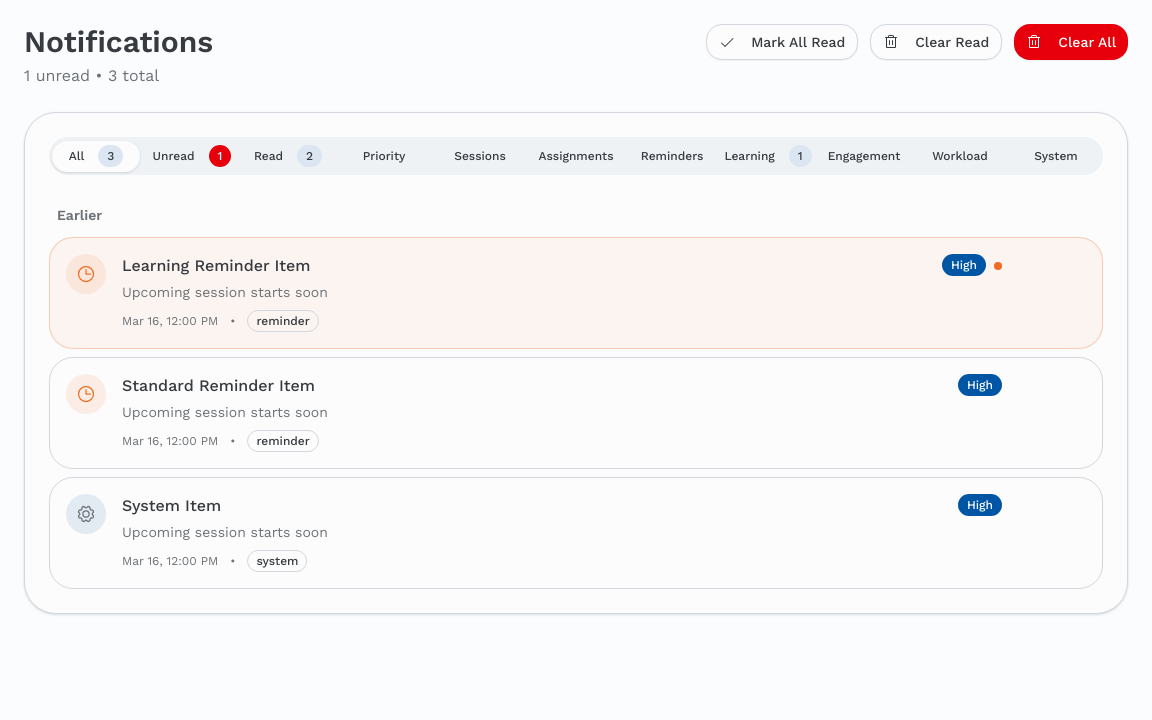
Scenario: Notifications › filters notifications by learning reminder tab using metadata keys
What coordinates should you click on to do the following:
click the tab "Learning 1"
I would click on:
 (768, 156)
Its box is [724, 140, 812, 172].
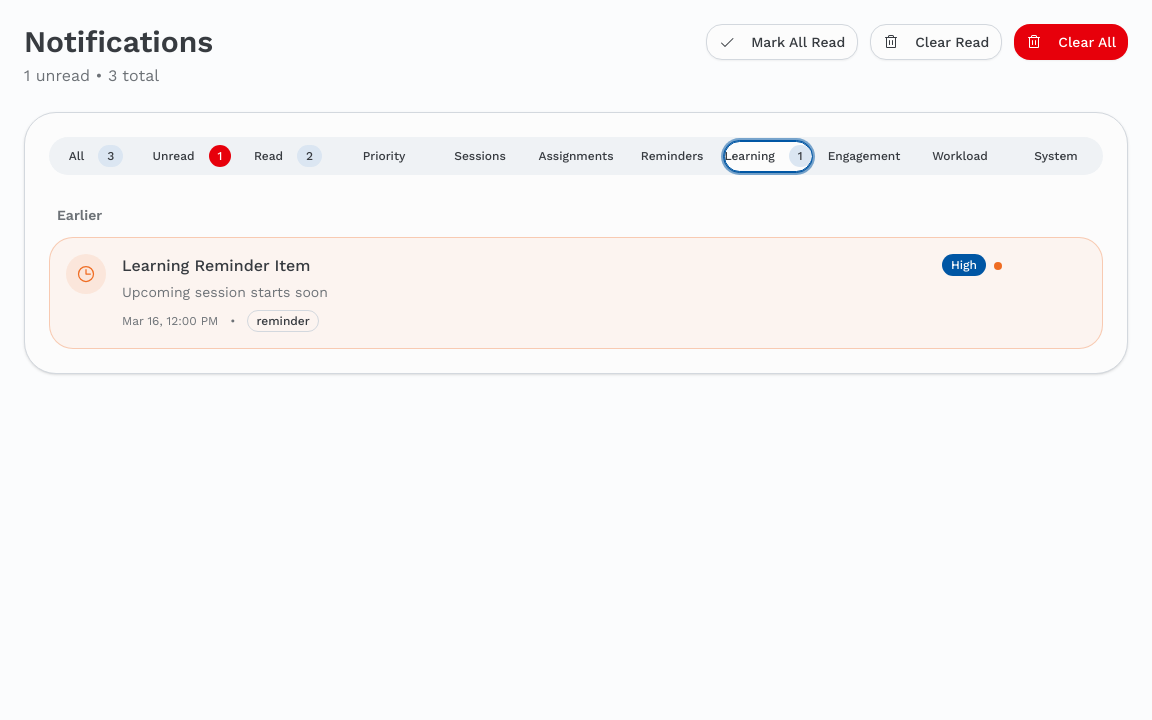
Expected: the text "Learning Reminder Item" is shown, [122, 256, 310, 275]
Now the button "Standard Reminder Item" is gone
Now the button "System Item" is gone
